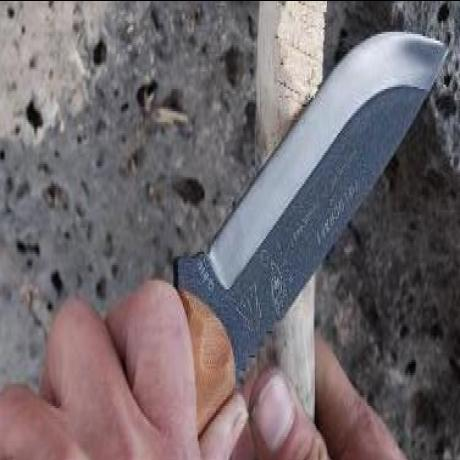weapon: (173, 26, 453, 442)
